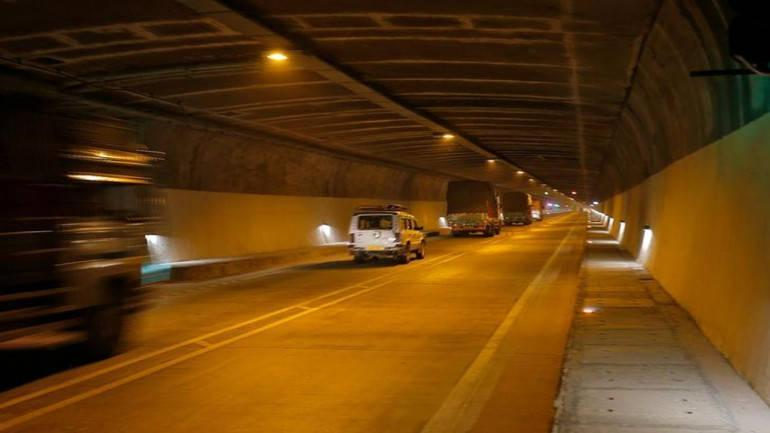car: (340, 204, 430, 265), (444, 175, 506, 236), (502, 187, 544, 225)
light: (132, 218, 192, 278), (629, 215, 670, 282), (587, 199, 634, 253), (258, 37, 307, 76), (302, 214, 344, 253), (424, 119, 466, 152), (480, 149, 506, 174), (509, 164, 530, 182)
shadow: (0, 36, 167, 390)
